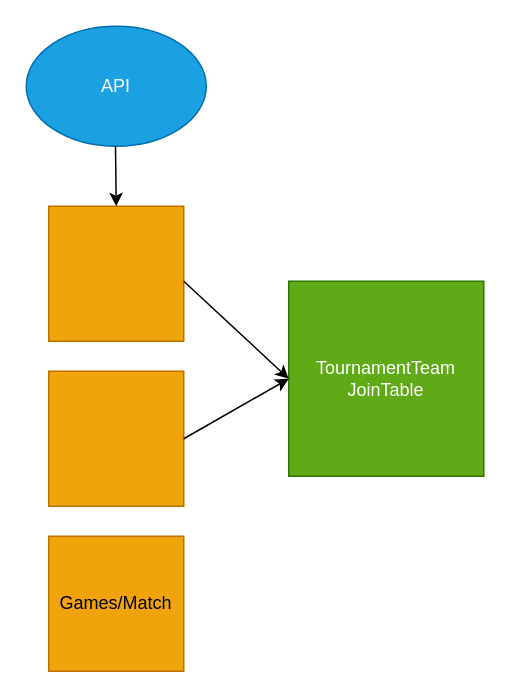
The diagram is 510 pixels wide and 698 high, and some of its shapes have lost their labels. The shapes that lost their labels are listed below. From the top down, each one's centre as x and y in pixels, then its label:
At point 115,273: "Tournament".
At point 115,438: "Team".
